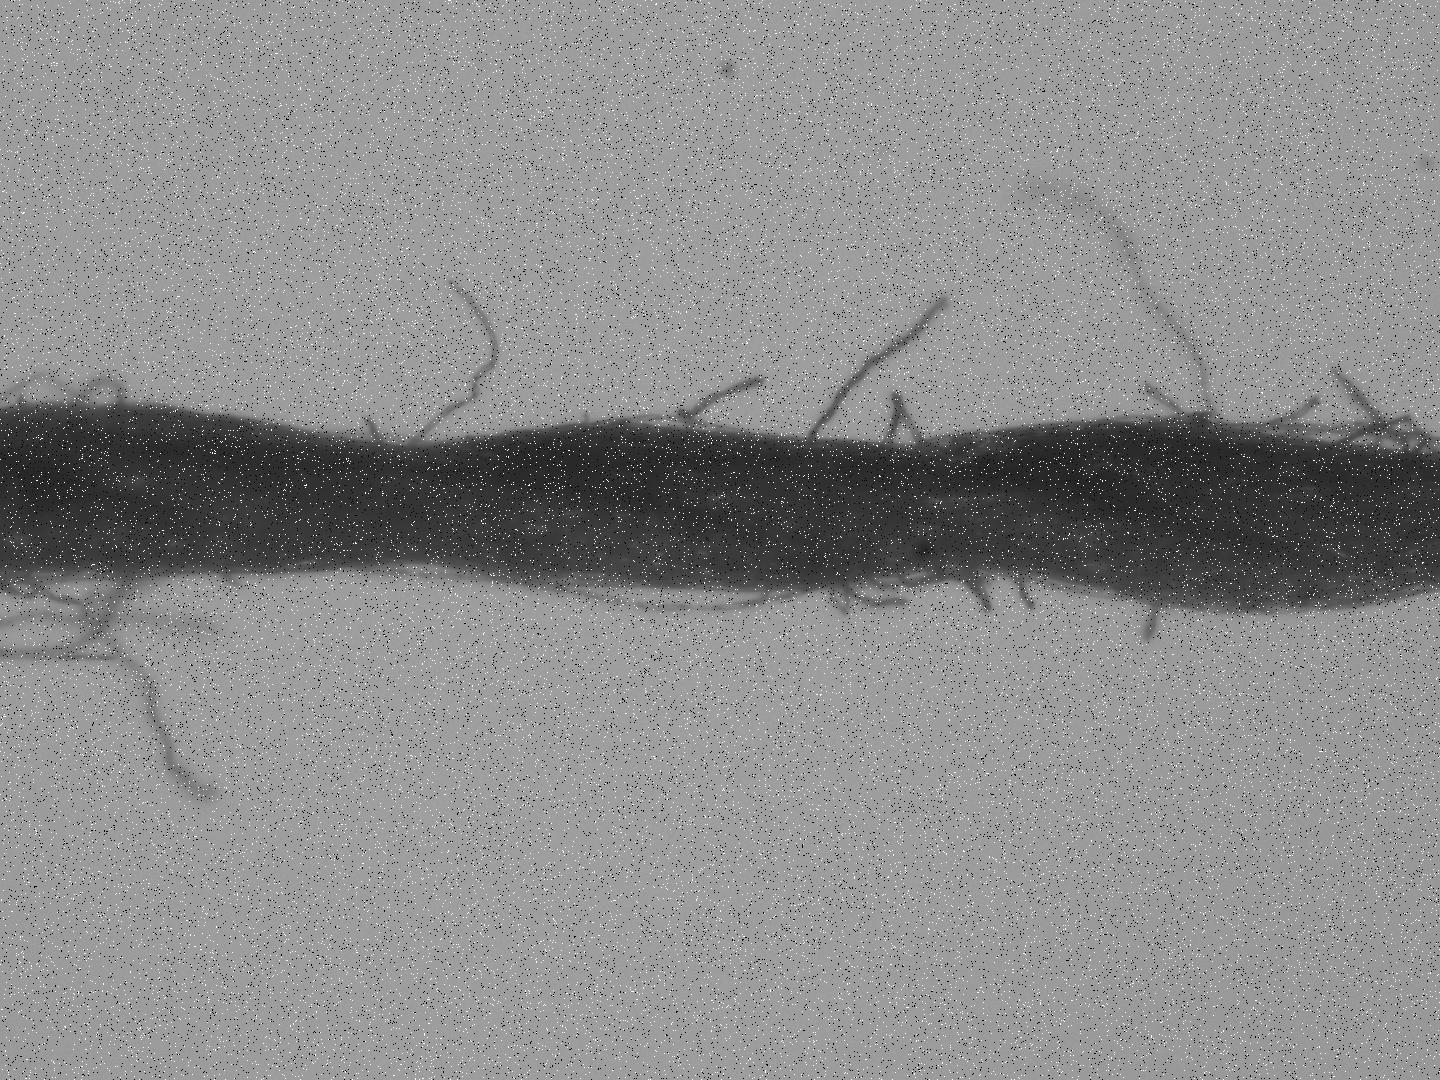loop_fiber: (552, 580, 801, 619), (1335, 411, 1430, 459), (893, 569, 990, 611), (997, 569, 1121, 601), (607, 412, 743, 436), (879, 396, 929, 455), (358, 560, 499, 581), (77, 378, 122, 412)
